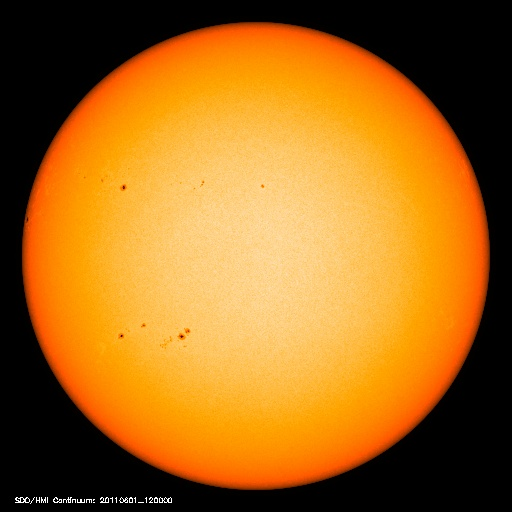sunspot: (111, 318, 200, 358), (72, 168, 131, 197), (184, 170, 213, 198), (251, 172, 274, 198), (18, 207, 37, 232)
